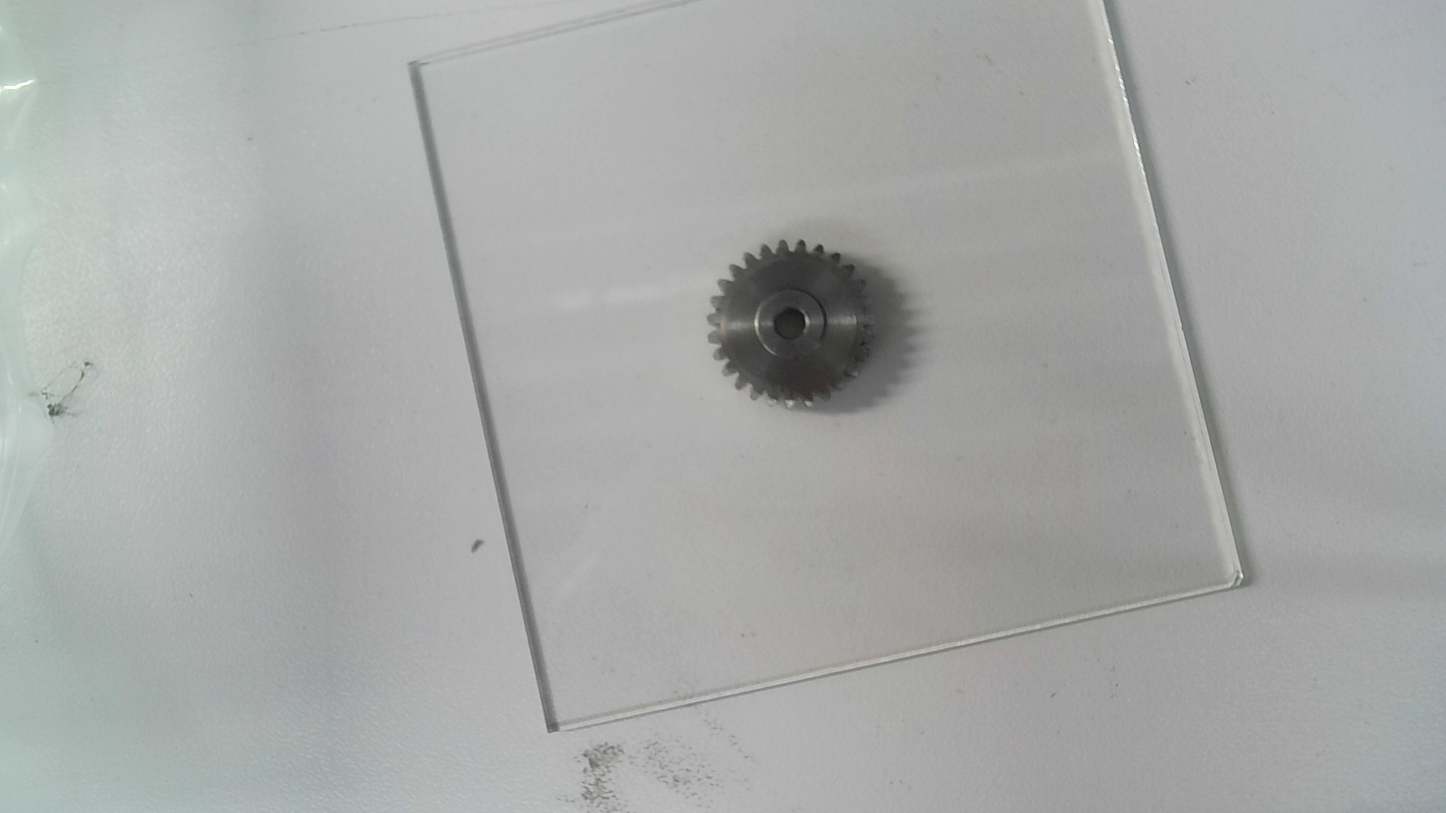gear: (702, 237, 878, 414)
